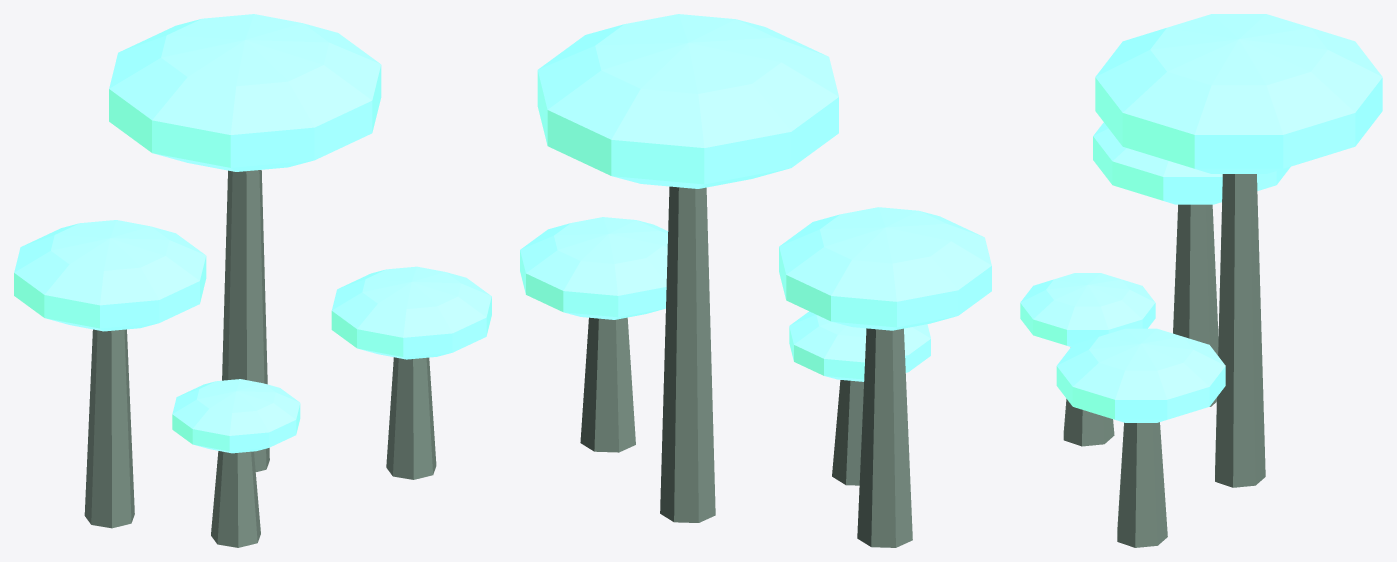
The model's file is cave_detail_fungi.glb.
The picture shows the model from 3 angles, left to right: view 1: azimuth 30°, elevation 25°; view 2: azimuth 150°, elevation 25°; view 3: azimuth 270°, elevation 25°; orthographic projection. The views are drawn at different scales.
Parts seen in each view (by area): view 1: Luminous cap.001, Luminous cap, Luminous cap.002, Fungus stem.001, Fungus stem, Luminous cap.003, Fungus stem.002, Fungus stem.003; view 2: Luminous cap.001, Luminous cap, Fungus stem.001, Luminous cap.002, Fungus stem, Fungus stem.002, Luminous cap.003, Fungus stem.003; view 3: Luminous cap.001, Fungus stem.001, Luminous cap.002, Luminous cap.003, Luminous cap, Fungus stem, Fungus stem.002, Fungus stem.003.
Part boxes in pixels (left/top/right/bottom): Luminous cap.001: left=109, top=14, right=381, bottom=171; Luminous cap: left=14, top=220, right=206, bottom=331; Luminous cap.002: left=331, top=266, right=491, bottom=359; Fungus stem.001: left=222, top=170, right=269, bottom=471; Fungus stem: left=84, top=329, right=134, bottom=528; Luminous cap.003: left=172, top=379, right=300, bottom=453; Fungus stem.002: left=386, top=357, right=436, bottom=479; Fungus stem.003: left=211, top=451, right=260, bottom=547; Luminous cap.001: left=537, top=14, right=838, bottom=188; Luminous cap: left=779, top=207, right=991, bottom=330; Fungus stem.001: left=660, top=186, right=715, bottom=522; Luminous cap.002: left=520, top=217, right=668, bottom=319; Fungus stem: left=857, top=328, right=912, bottom=547; Fungus stem.002: left=580, top=317, right=635, bottom=452; Luminous cap.003: left=789, top=311, right=930, bottom=381; Fungus stem.003: left=832, top=380, right=863, bottom=485; Luminous cap.001: left=1095, top=14, right=1382, bottom=173; Fungus stem.001: left=1215, top=174, right=1265, bottom=487; Luminous cap.002: left=1056, top=328, right=1225, bottom=422; Luminous cap.003: left=1020, top=273, right=1155, bottom=346; Luminous cap: left=1093, top=122, right=1290, bottom=204; Fungus stem: left=1173, top=204, right=1218, bottom=406; Fungus stem.002: left=1117, top=422, right=1167, bottom=547; Fungus stem.003: left=1063, top=399, right=1114, bottom=446.
Bounding box in the file's own units: 1.14 × 1.09 × 0.8155.
